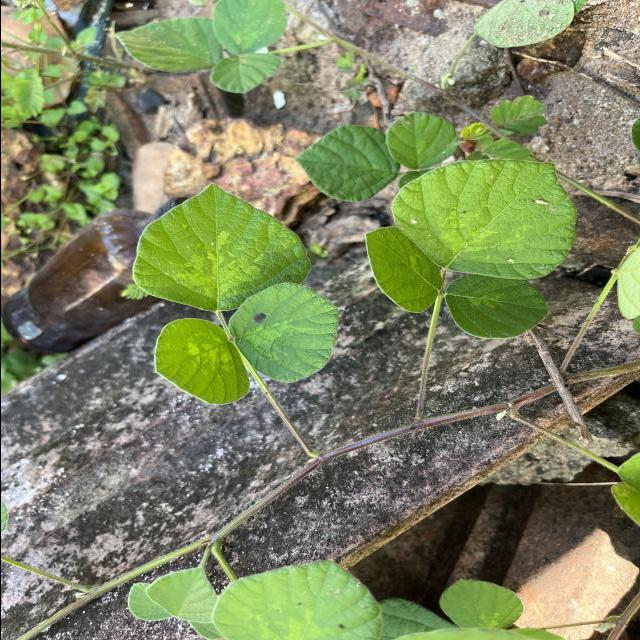Pseudarthria viscida: (128, 181, 340, 406), (361, 156, 579, 342)
